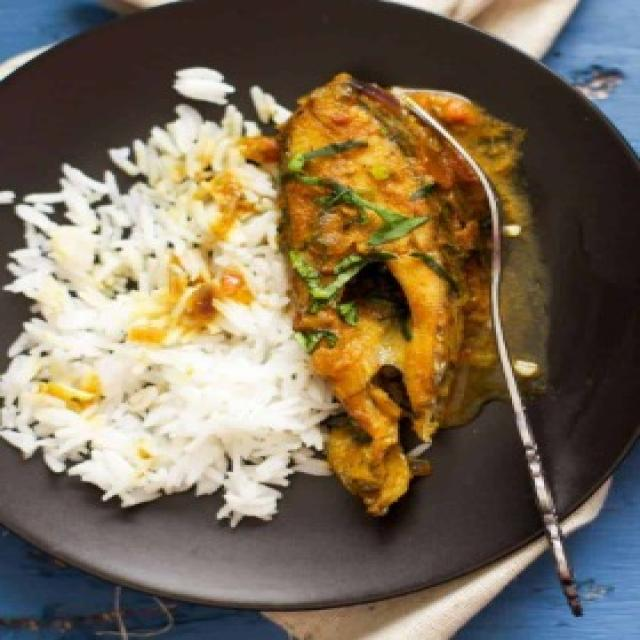FISH FRY: (242, 74, 544, 514)
RICE: (2, 104, 337, 541)
